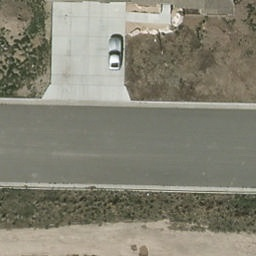car: (108, 35, 123, 70)
